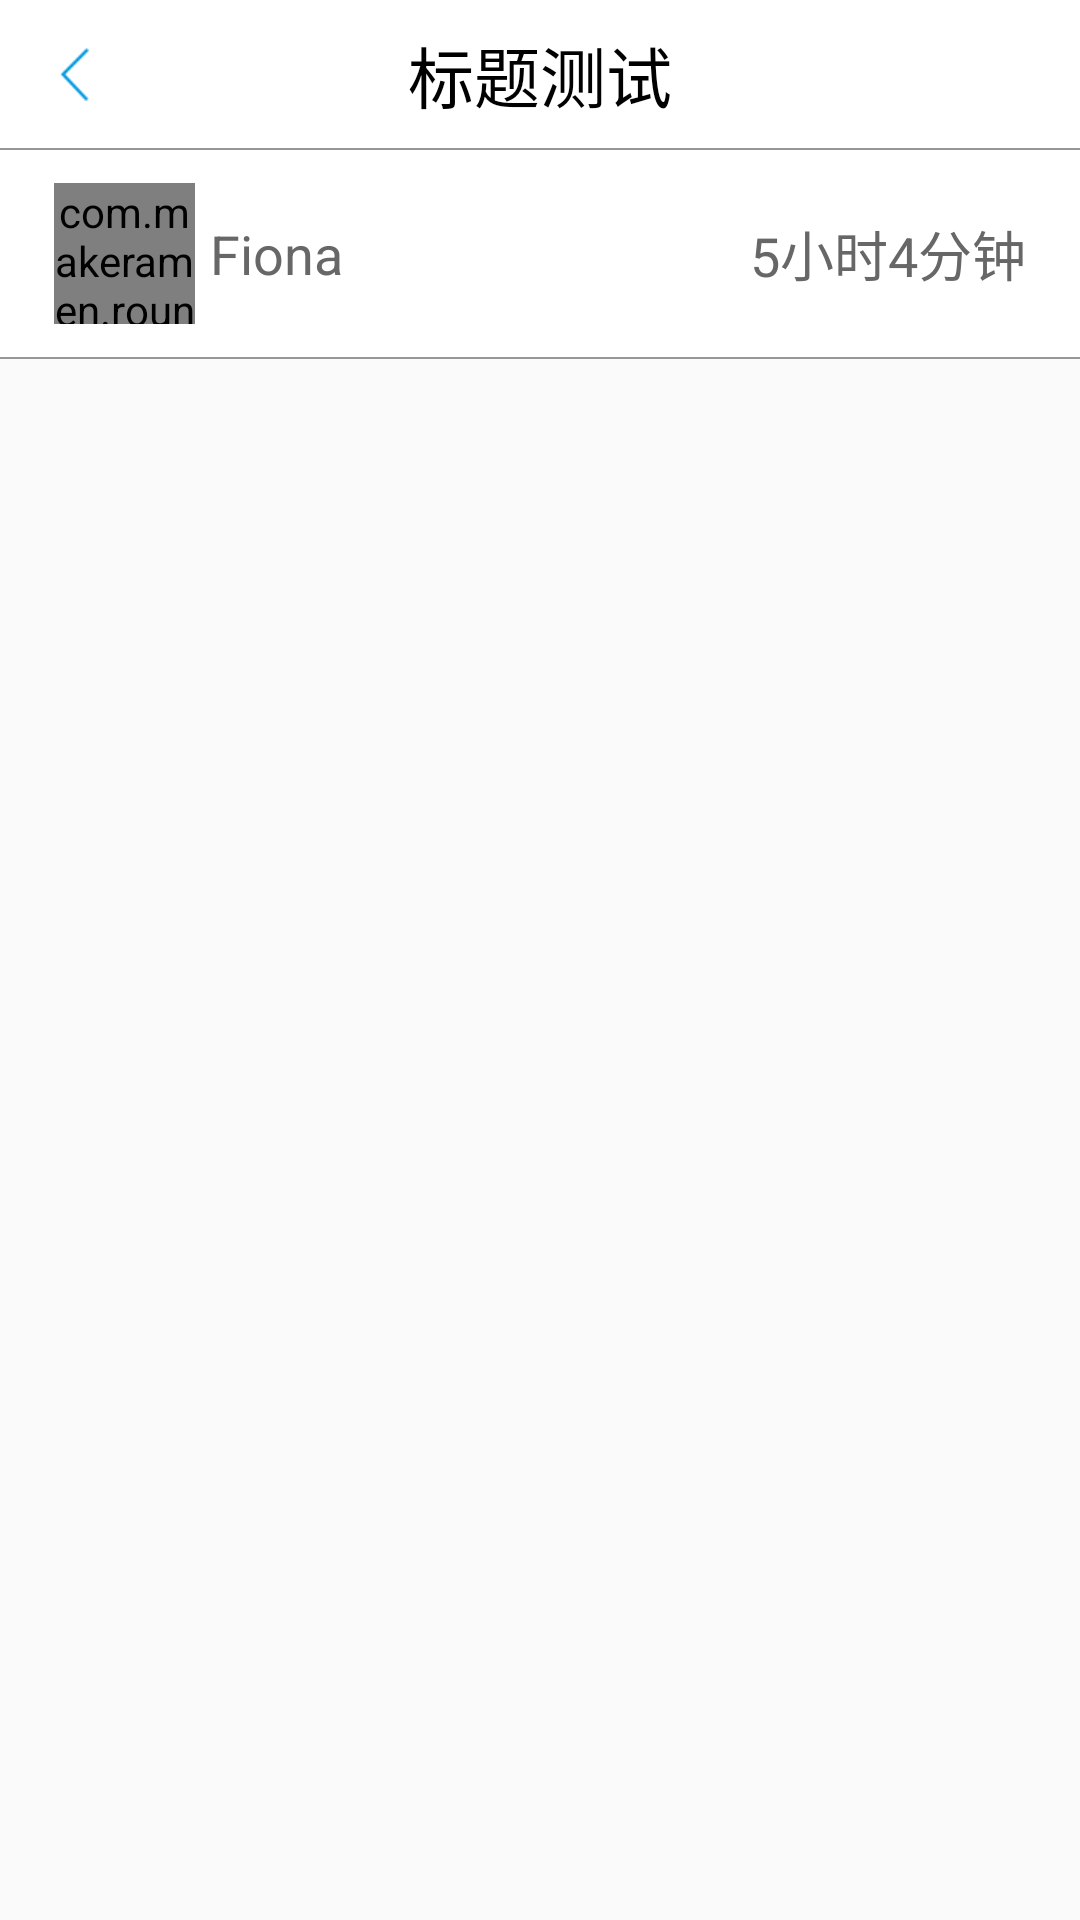

Icons on this 1080 × 1920 Android screen, each with its box as {"left": x1, "top": y1, "right": x2, "bottom": y2}:
back: {"left": 60, "top": 48, "right": 89, "bottom": 101}
